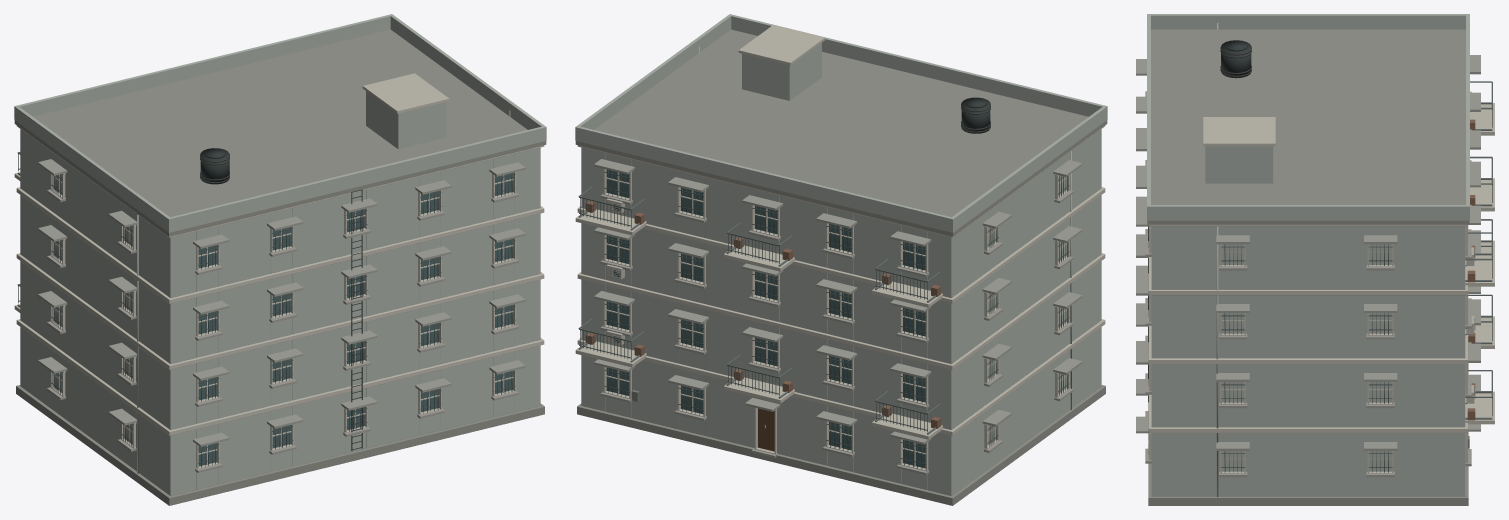
The model's file is apartments_4.glb.
3 views of the same model, side by side, from view 1: azimuth 30°, elevation 25°; view 2: azimuth 150°, elevation 25°; view 3: azimuth 270°, elevation 25° (orthographic). The views are drawn at different scales.
Visible parts, largest first — view 1: apartments_4; view 2: apartments_4; view 3: apartments_4.
Boxes of the visible parts, bbox=[...] form: apartments_4: bbox=[14, 14, 546, 505]; apartments_4: bbox=[575, 14, 1107, 505]; apartments_4: bbox=[1136, 14, 1494, 505].
Bounding box in the file's own units: 19.83 × 14.96 × 14.88.
